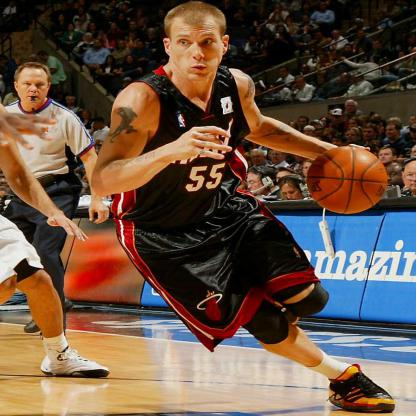face: (171, 21, 223, 84), (18, 68, 48, 108), (386, 166, 402, 189), (404, 164, 416, 192), (248, 176, 263, 195), (282, 186, 301, 199), (278, 173, 293, 189), (379, 151, 393, 164), (303, 164, 314, 178), (272, 152, 284, 164), (253, 153, 263, 165), (347, 131, 357, 143), (364, 130, 375, 140), (387, 127, 397, 138), (333, 115, 343, 125), (324, 132, 333, 142), (376, 123, 385, 132), (348, 103, 356, 113), (350, 120, 358, 129), (334, 140, 343, 148), (299, 119, 307, 128), (297, 79, 305, 88), (342, 74, 350, 83), (281, 69, 289, 78), (94, 122, 102, 130), (410, 117, 416, 127), (305, 129, 312, 137), (412, 147, 416, 161), (374, 42, 381, 50), (83, 112, 90, 120), (68, 99, 75, 107), (302, 67, 309, 75), (325, 64, 332, 72), (321, 118, 327, 127), (39, 55, 48, 61), (344, 47, 351, 54), (318, 78, 325, 85), (353, 75, 360, 82), (390, 122, 397, 129), (315, 138, 322, 145), (291, 123, 297, 131), (320, 56, 326, 64), (400, 53, 406, 61), (411, 131, 416, 140), (359, 32, 365, 39), (334, 33, 340, 40), (251, 38, 257, 45), (95, 41, 101, 48), (131, 23, 137, 30), (316, 35, 323, 41), (269, 87, 276, 93), (128, 57, 134, 63), (119, 43, 125, 49), (138, 44, 144, 50), (278, 28, 284, 34), (149, 31, 155, 37), (275, 7, 281, 13), (108, 59, 113, 65), (86, 36, 92, 41), (82, 16, 87, 22), (106, 12, 111, 18), (139, 11, 144, 17), (321, 5, 327, 10), (111, 3, 117, 8), (91, 25, 96, 30), (112, 25, 117, 30), (69, 25, 74, 30), (131, 35, 136, 40), (159, 12, 164, 17), (257, 29, 262, 34), (304, 28, 309, 33), (304, 17, 309, 22), (122, 6, 127, 11), (120, 15, 124, 20), (305, 5, 310, 9), (61, 16, 65, 20)
